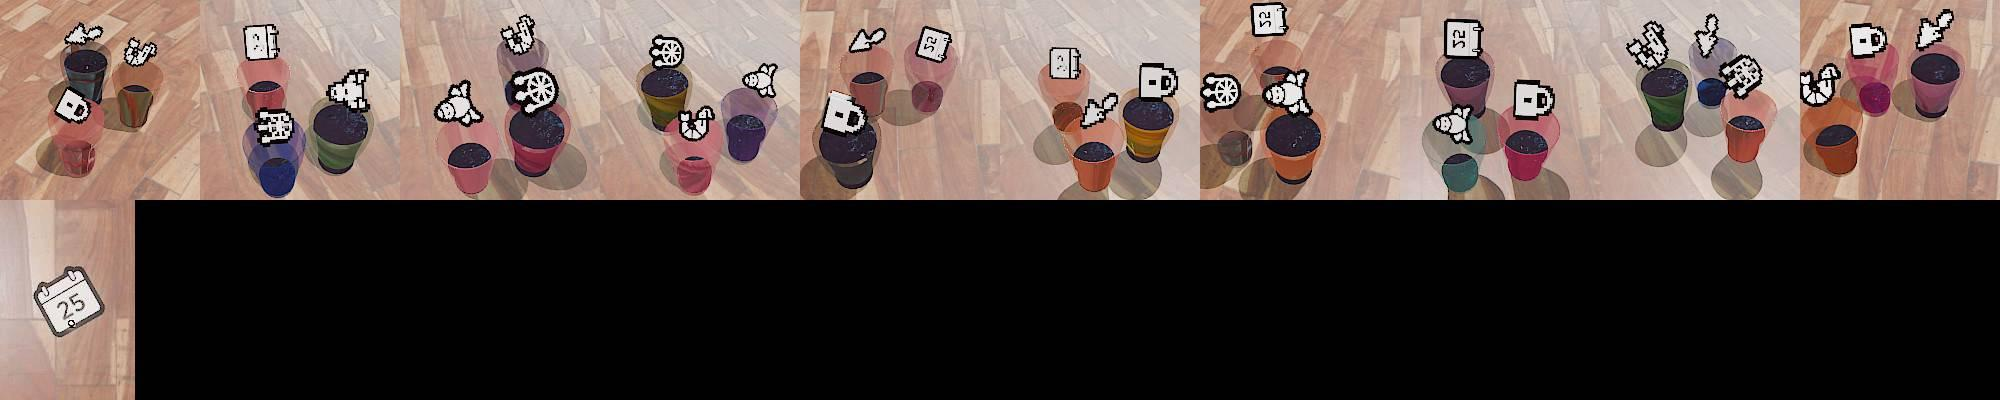icon: (31, 266, 105, 339), (1261, 65, 1314, 117), (508, 66, 561, 115), (432, 78, 485, 126), (1625, 18, 1672, 70), (820, 89, 871, 136), (1718, 54, 1764, 99), (327, 66, 371, 113), (1798, 64, 1841, 107), (1432, 104, 1476, 145), (1513, 79, 1557, 118), (1915, 9, 1954, 52), (1443, 18, 1483, 59), (500, 13, 538, 56), (915, 24, 954, 64), (1200, 71, 1240, 111), (254, 107, 295, 145), (1079, 92, 1120, 130), (741, 61, 779, 101), (1138, 64, 1179, 101), (1848, 22, 1888, 59), (1691, 14, 1721, 62), (54, 88, 93, 124), (677, 103, 714, 140), (245, 23, 281, 60), (1251, 3, 1288, 38), (649, 33, 684, 69), (1048, 47, 1082, 82), (121, 37, 157, 68), (62, 22, 105, 47), (849, 27, 886, 54)
